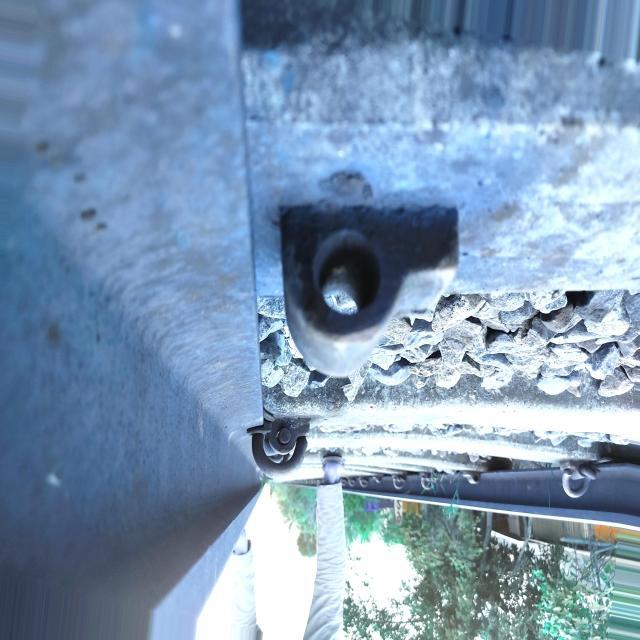Good Fasteners: (242, 419, 313, 509)
Missing Fastener: (266, 173, 485, 384)
